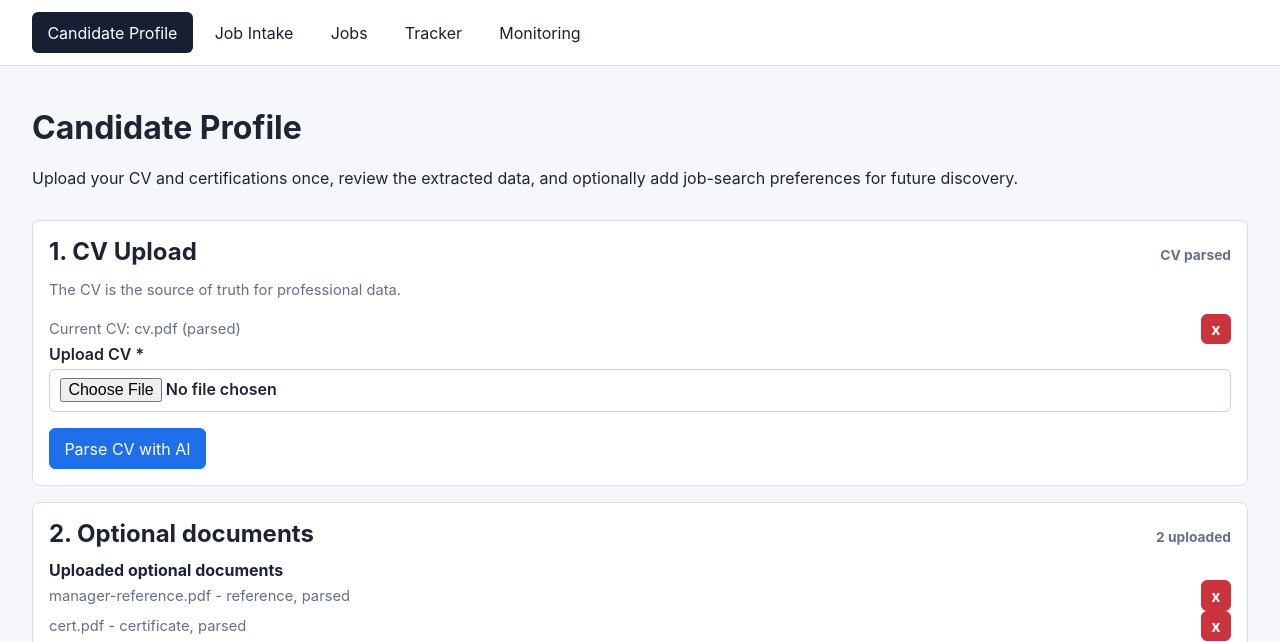
Test: App workflow pages › deletes one uploaded optional document from the Candidate Profile UI
Check: the text "manager-reference.pdf - reference, parsed" is shown, box [49,587,350,605]
Click the button named "Delete manager-reference.pdf" at (1216, 596), box [1201,580,1231,611]
(page scrolled)
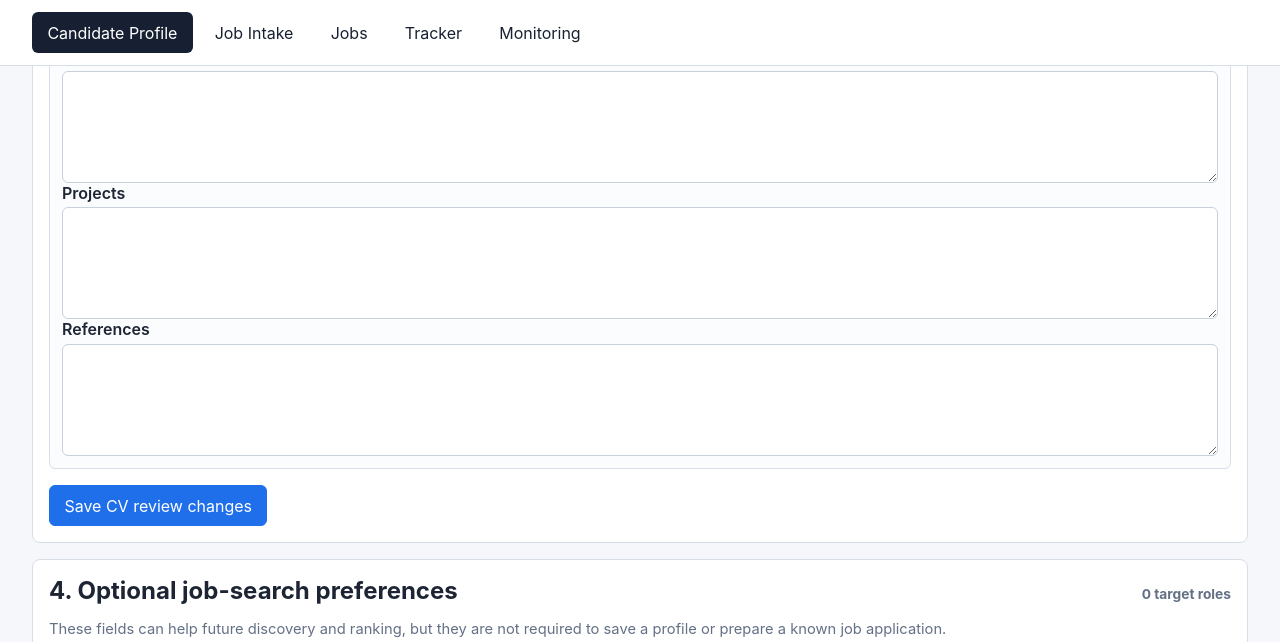
Check: the text "manager-reference.pdf - reference, parsed" is gone
Check: the text box labelled "References" is empty, box [62,344,1218,456]
